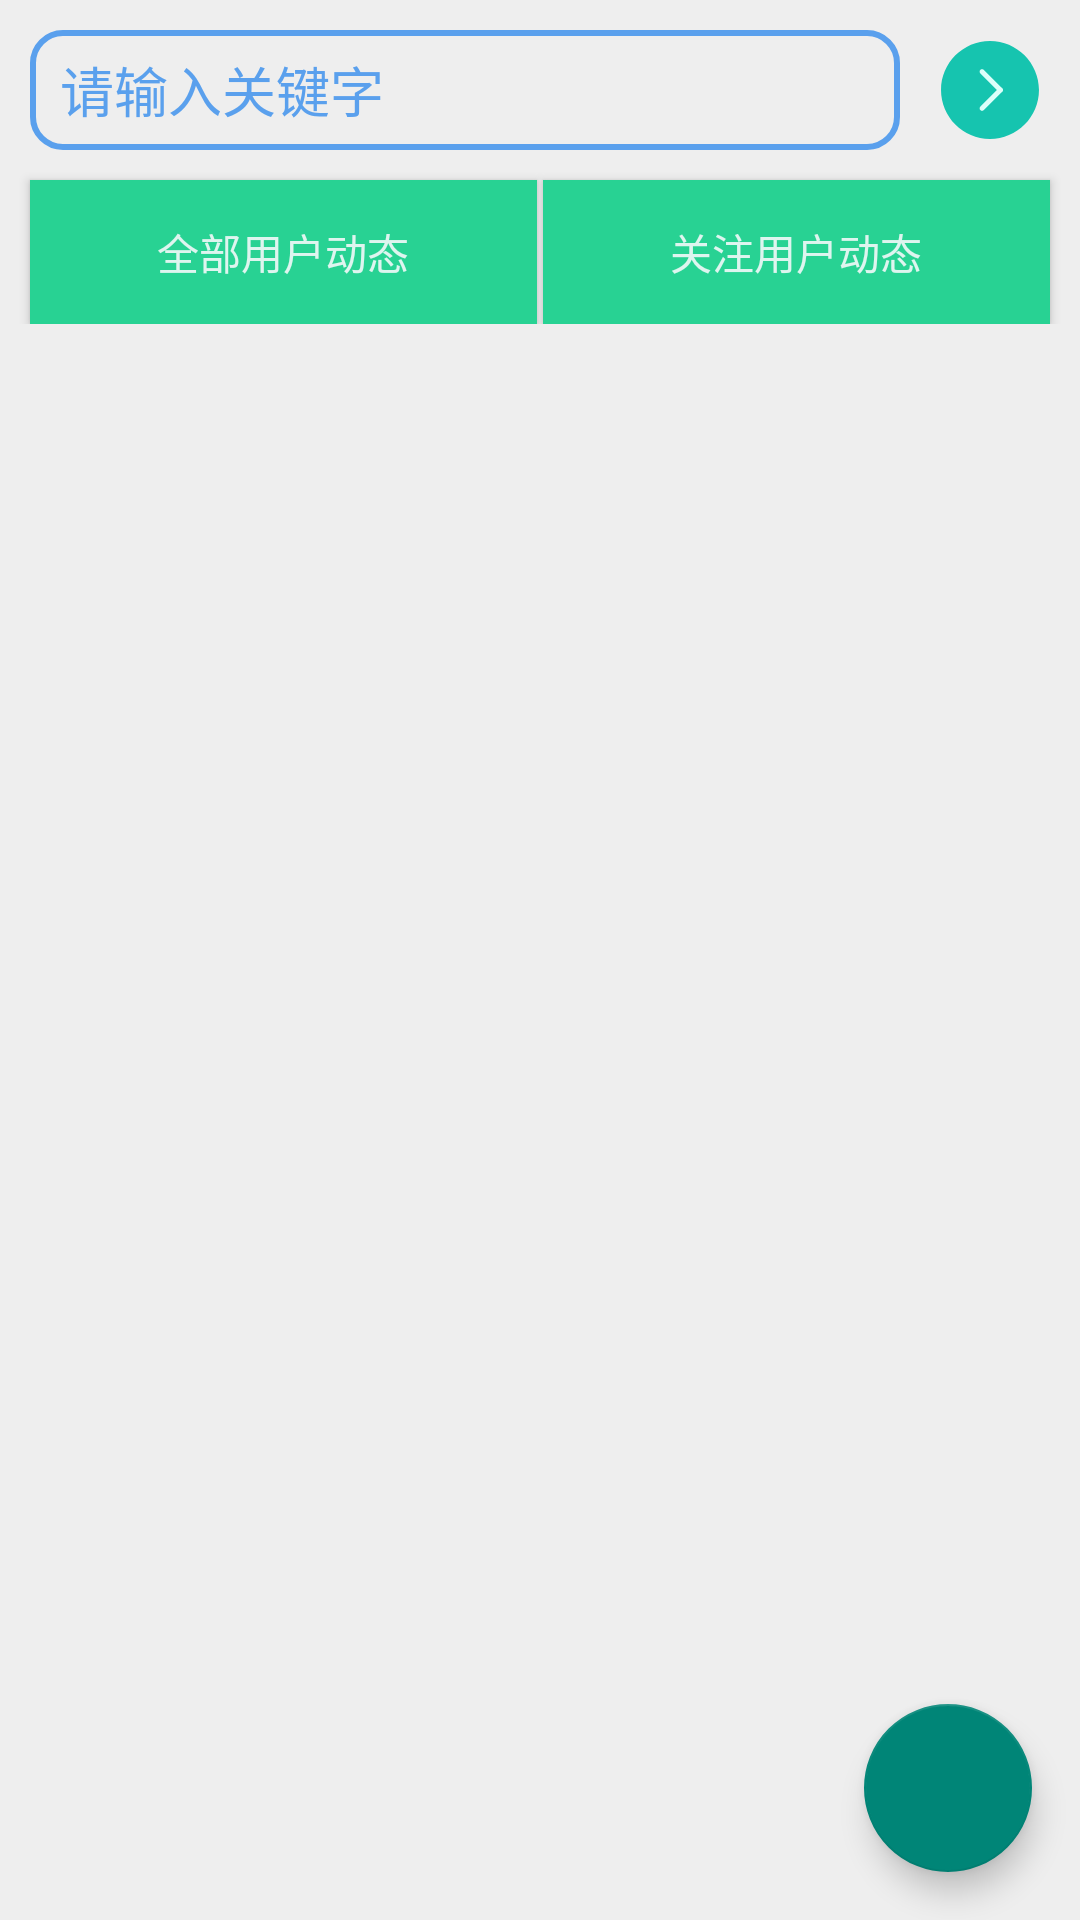

Screen size 1080×1920. Icon name, then its center in pixels as [x,y]:
arrow: [990,90]
